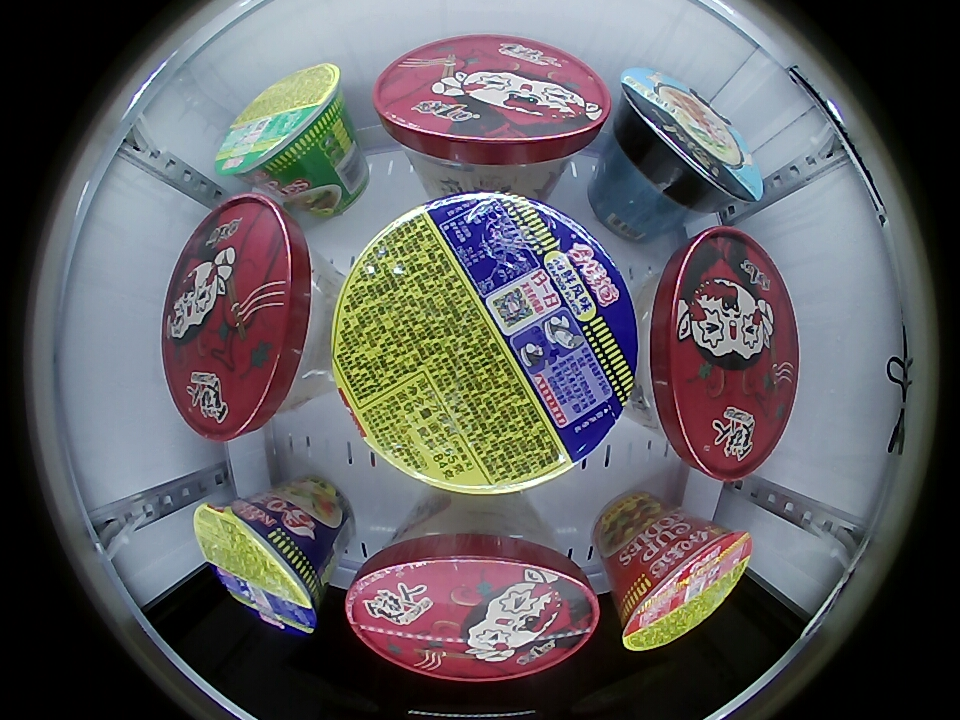heweidao: (330, 191, 640, 496), (195, 497, 324, 637)
heweidao2: (215, 63, 347, 184)
heweidao3: (616, 520, 753, 651)
suanlafen: (345, 506, 602, 681), (641, 226, 799, 480), (162, 195, 323, 441), (373, 37, 612, 182)
tangdaren3: (616, 66, 763, 207)
